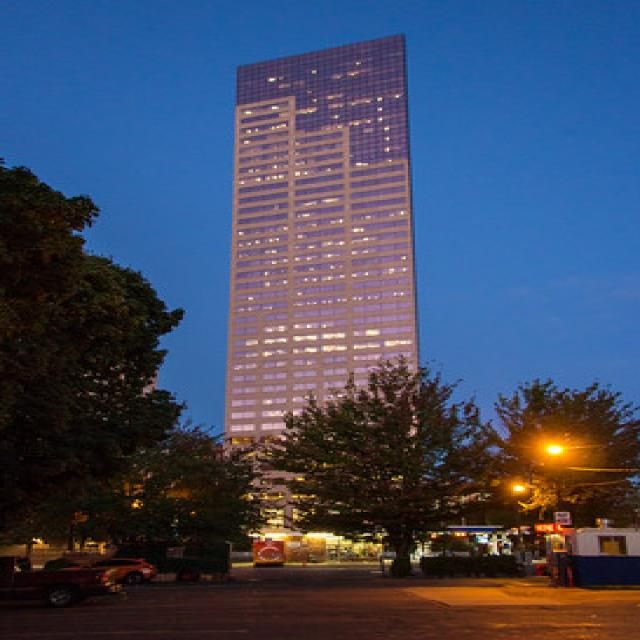building: (226, 26, 433, 515)
